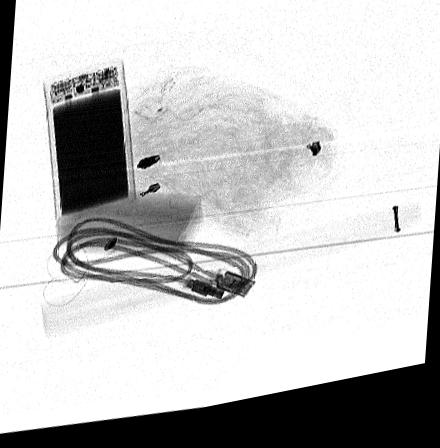Powerbank: (43, 66, 135, 227)
